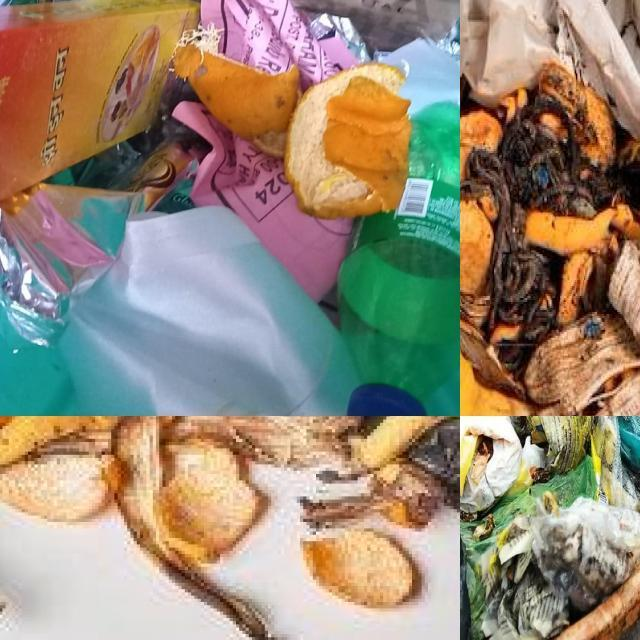Garbage: (0, 416, 460, 640), (460, 0, 640, 416), (460, 416, 640, 640)
Plastic: (59, 207, 359, 416), (0, 185, 144, 345), (378, 39, 460, 118)
Plastic_Bag: (460, 456, 598, 640), (531, 497, 640, 611), (593, 416, 640, 509), (546, 456, 598, 508), (617, 416, 640, 470), (530, 483, 544, 497)
Plastic_bottle: (338, 101, 460, 416)
